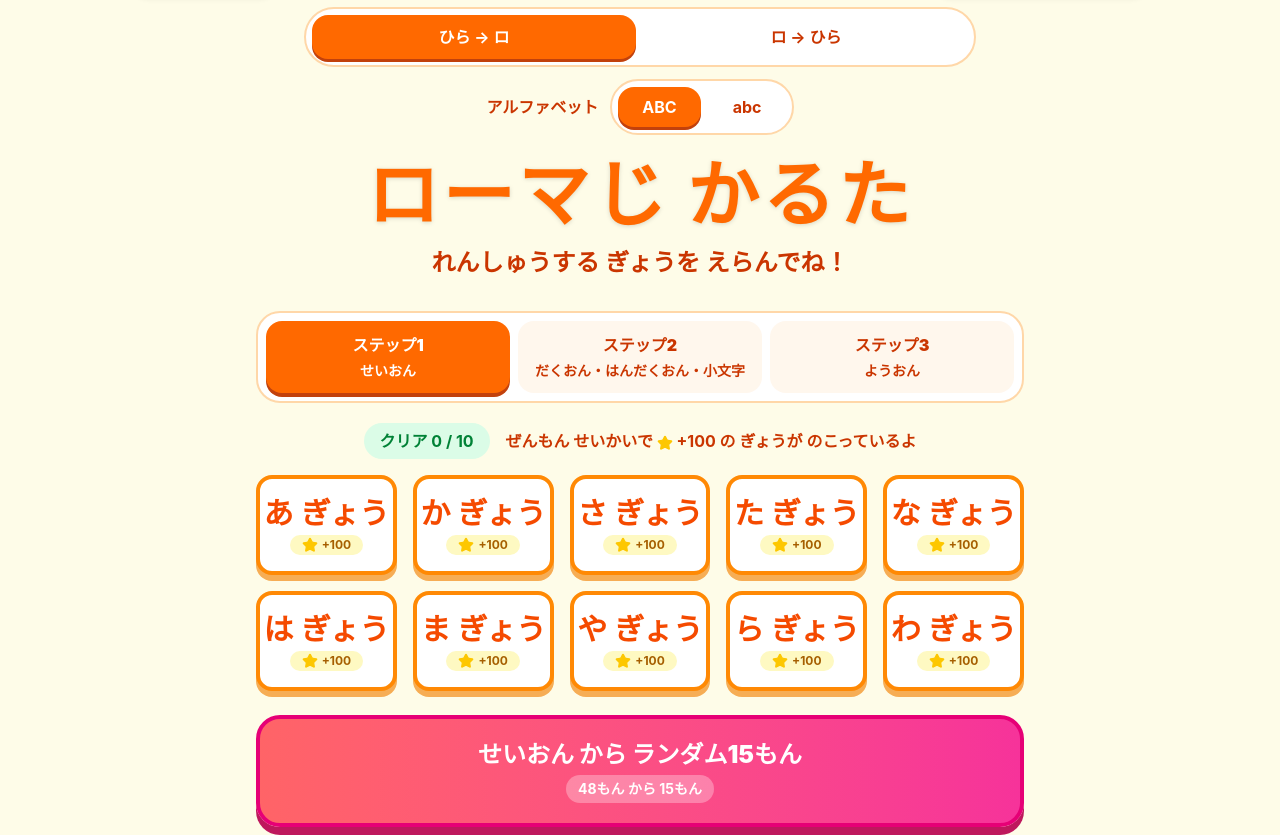
Test: <Menu /> › shows locked rows and unlock guidance for an unreached step
The width and height of the screenshot is (1280, 835).
Click the tab "ステップ2 だくおん・はんだくおん・小文字".
click(640, 357)  # box [518,321,762,393]
(page scrolled)
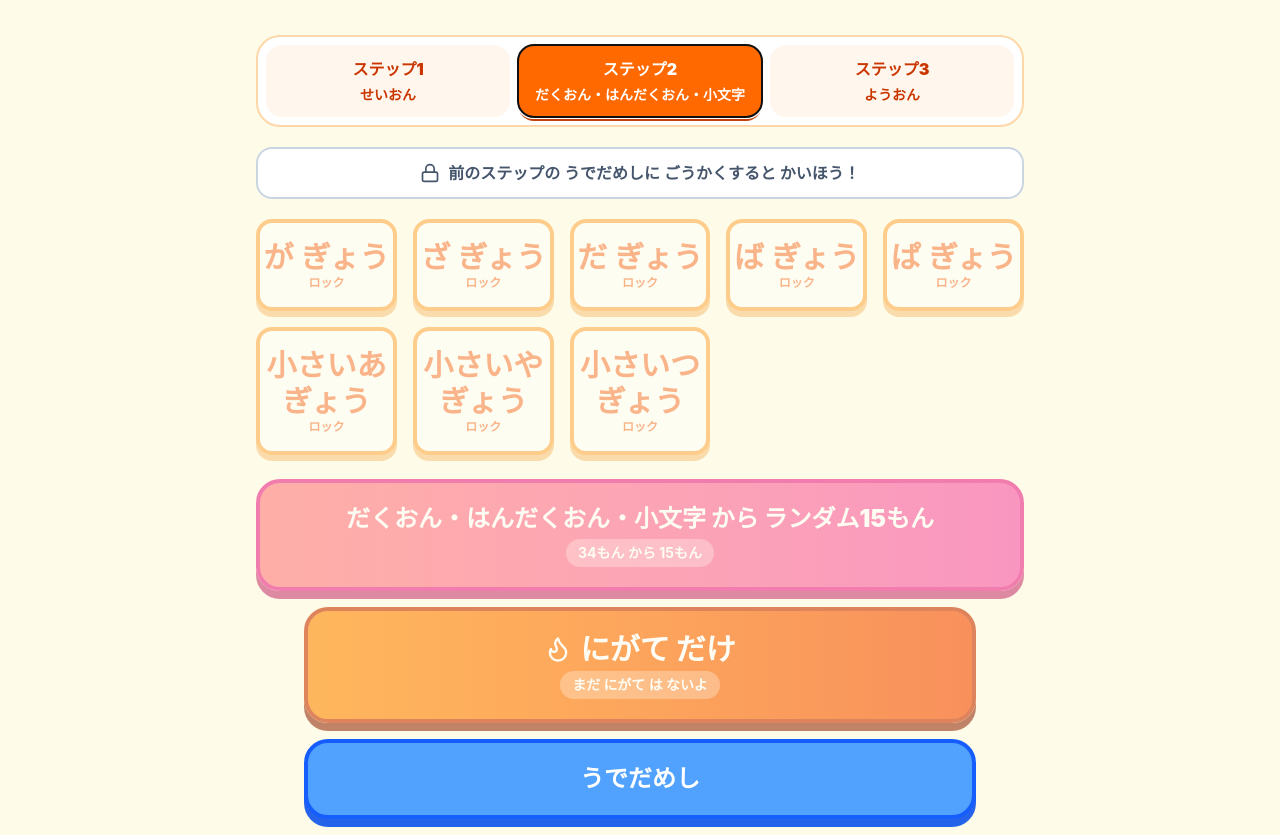
Now the text "前のステップの うでだめしに ごうかくすると かいほう！" is shown, box [256,147,1024,199]
Now the button "が ぎょう ロック" is disabled, box [256,219,397,311]
Now the button "だくおん・はんだくおん・小文字 から ランダム15もん 34もん から 15もん" is disabled, box [256,479,1024,591]
